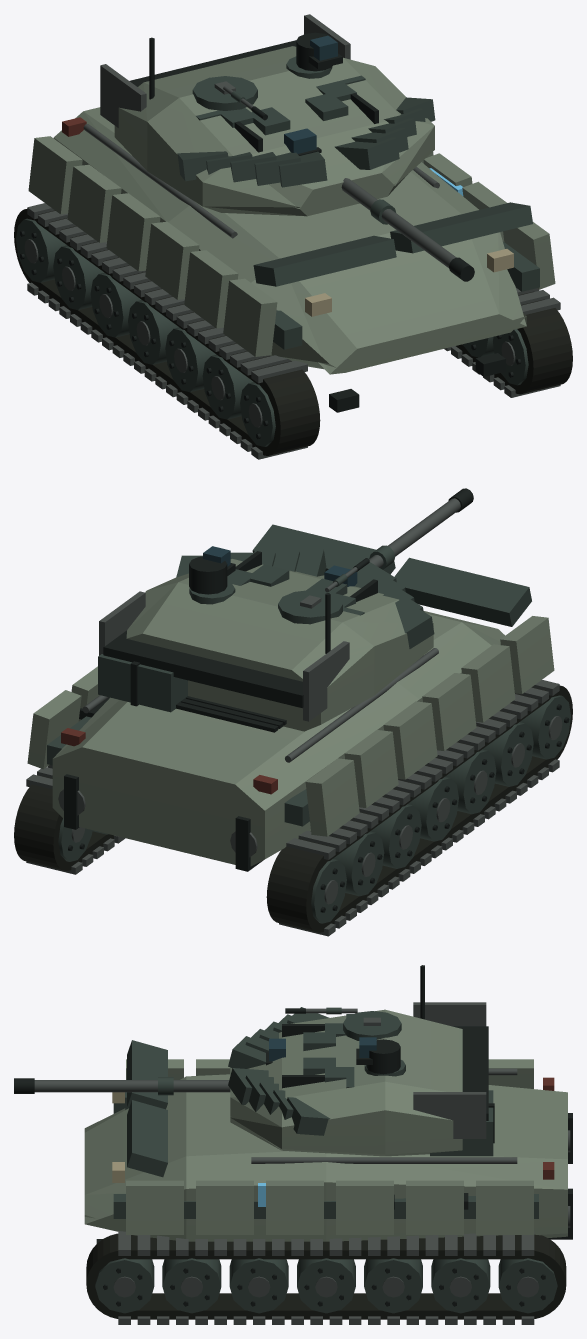
File: lightTank.glb
3 renders of one model, top to bottom at view 1: azimuth 30°, elevation 25°; view 2: azimuth 150°, elevation 25°; view 3: azimuth 270°, elevation 25°, orthographic. The views are drawn at different scales.
Parts seen in each view (by area): view 1: armor (×2), equipment (×3), glass; view 2: armor (×2), equipment (×3), glass; view 3: equipment (×4), armor (×2), glass.
Boxes of the visible parts, box(x1,y1,x2,y2) form: armor (×2): box(28, 46, 555, 374); equipment (×3): box(14, 14, 572, 459); glass: box(284, 35, 337, 153); armor (×2): box(27, 559, 554, 866); equipment (×3): box(14, 488, 572, 936); glass: box(203, 546, 357, 586); equipment (×4): box(14, 965, 572, 1324); armor (×2): box(84, 1009, 567, 1241); glass: box(269, 1037, 376, 1061).
Size of the model in its own units: 3.01 by 2.66 by 5.32.
